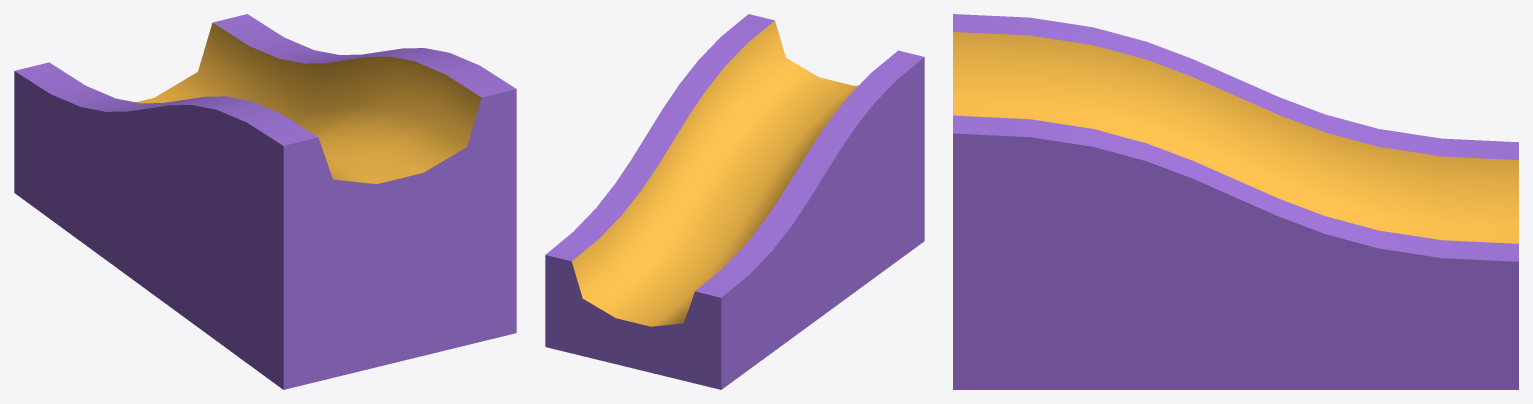
File: kenney-marble-ramp-long-solid-b.glb
3 renders of one model, left to right at view 1: azimuth 30°, elevation 25°; view 2: azimuth 150°, elevation 25°; view 3: azimuth 270°, elevation 25°, orthographic. The views are drawn at different scales.
Parts seen in each view (by area): view 1: ramp-long-solid-b; view 2: ramp-long-solid-b; view 3: ramp-long-solid-b.
Part boxes in pixels (box(x1,y1,x2,y2)): ramp-long-solid-b: box(14, 14, 516, 389); ramp-long-solid-b: box(545, 14, 924, 389); ramp-long-solid-b: box(953, 14, 1518, 389).
Bounding box in the file's own units: 1 × 1 × 2.
1 material, 1 textured.
